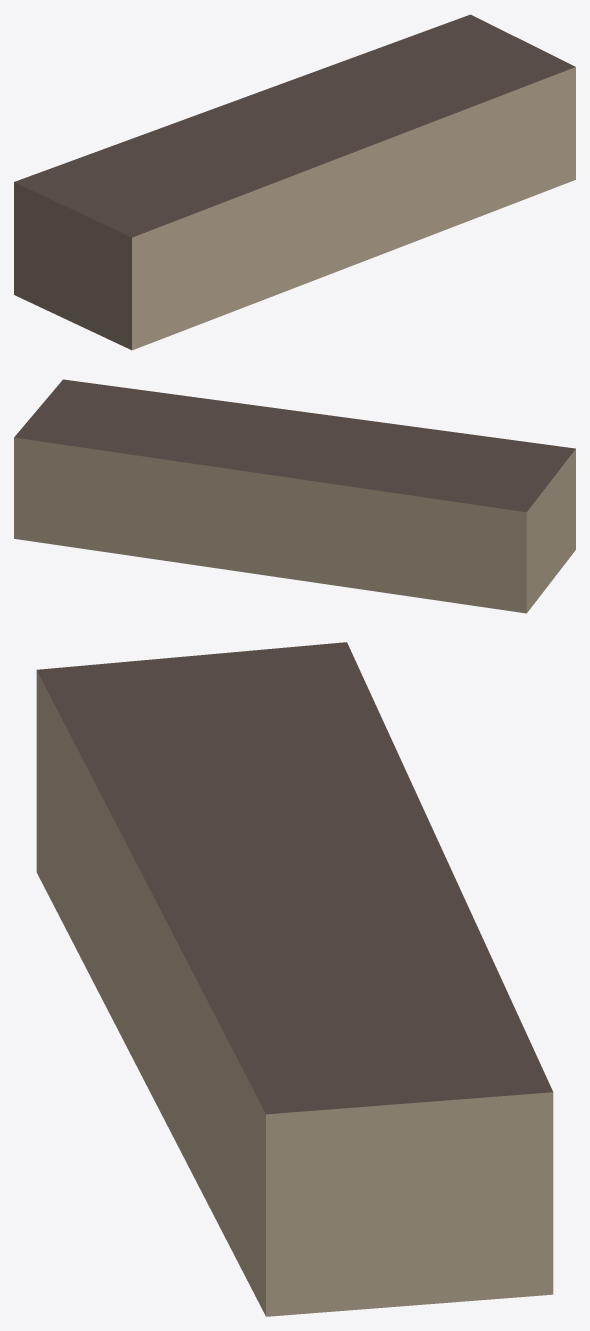
The picture shows the model from 3 angles, top to bottom: view 1: azimuth 30°, elevation 25°; view 2: azimuth 150°, elevation 25°; view 3: azimuth 270°, elevation 25°; orthographic projection. The views are drawn at different scales.
Visible parts, largest first — view 1: HP-w1512497746; view 2: HP-w1512497746; view 3: HP-w1512497746.
Boxes of the visible parts, box(x1,y1,x2,y2) form: HP-w1512497746: box(14, 14, 575, 350); HP-w1512497746: box(14, 379, 575, 613); HP-w1512497746: box(36, 642, 553, 1316).
Size of the model in its own units: 45.02 by 9 by 20.82.
